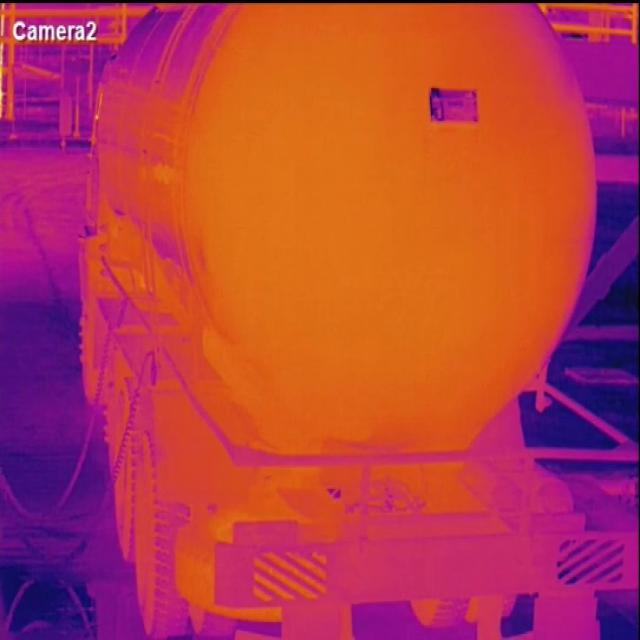tank: (183, 1, 597, 441)
